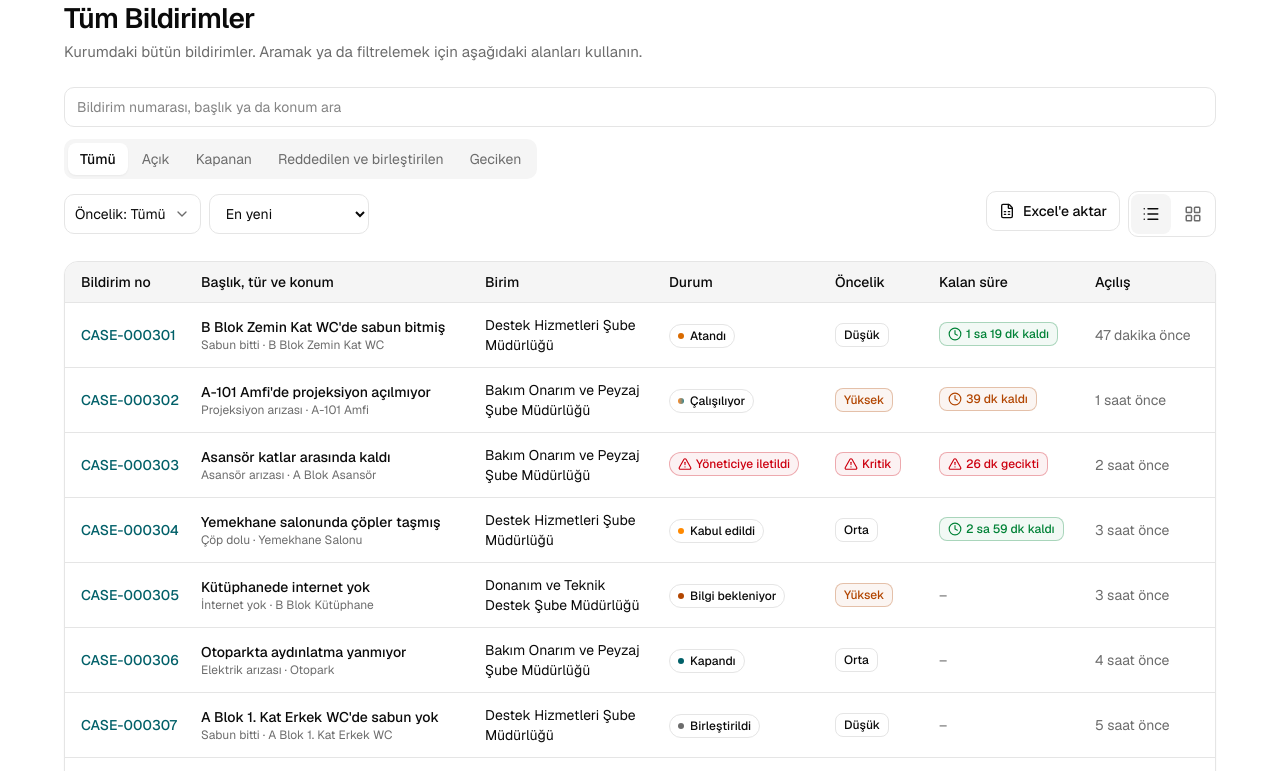
Test: CaseList › narrows the list by priority and by search text
Click the button "Öncelik: Tümü" at (132, 214), box [64,194,201,234]
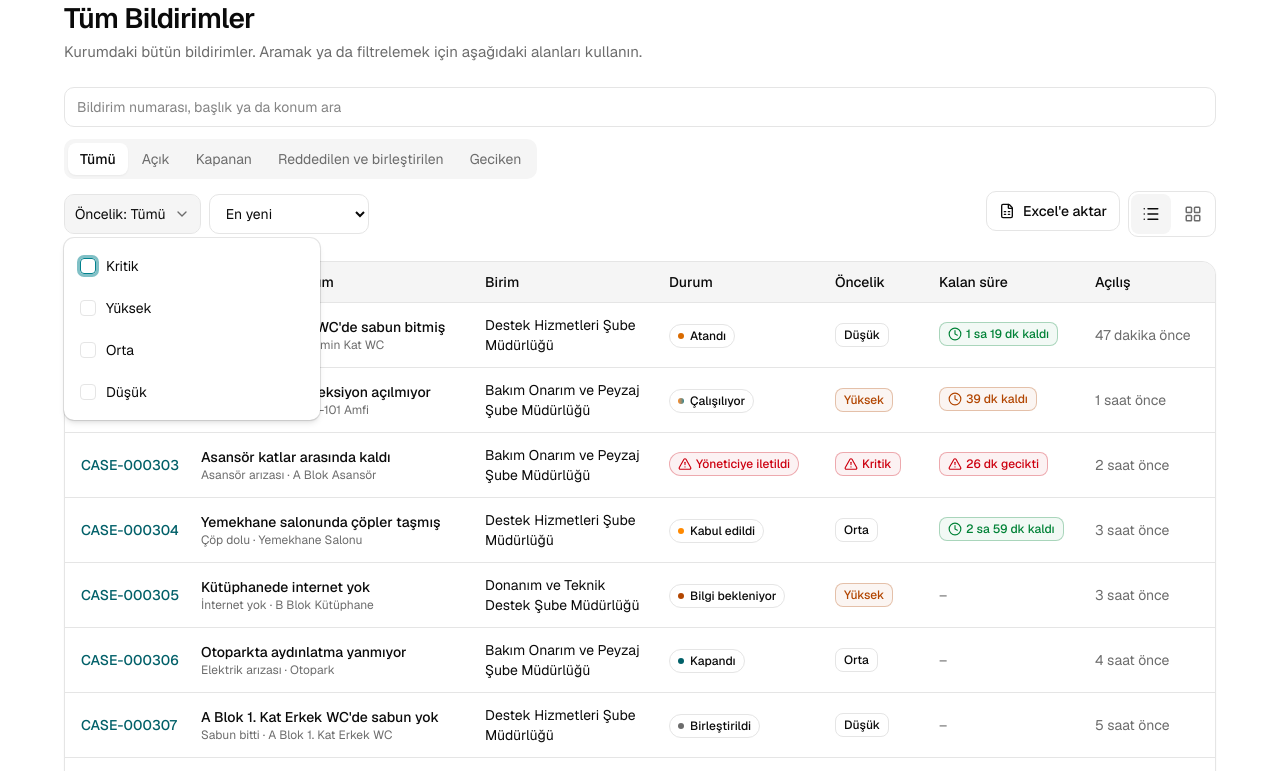
Click the 1st checkbox named "Kritik" at (88, 266), box [80,258,96,274]
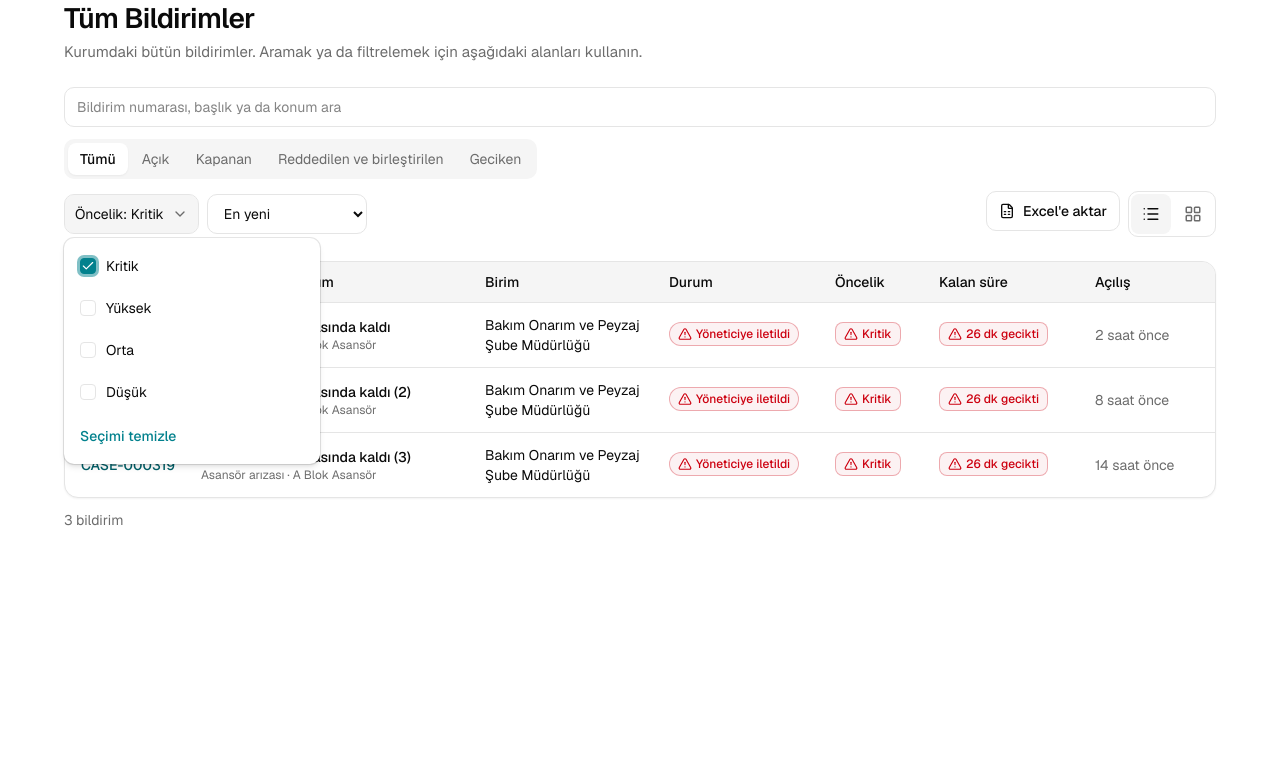
Check: the list item that starts with "CASE-000303" shows "Asansör katlar arasında kaldı", box [65,302,1215,367]
Check: the number of list items is 3, box [65,302,1215,367]; [65,367,1215,432]; [65,432,1215,497]
Click the button "Seçimi temizle" at (192, 436), box [72,416,312,456]
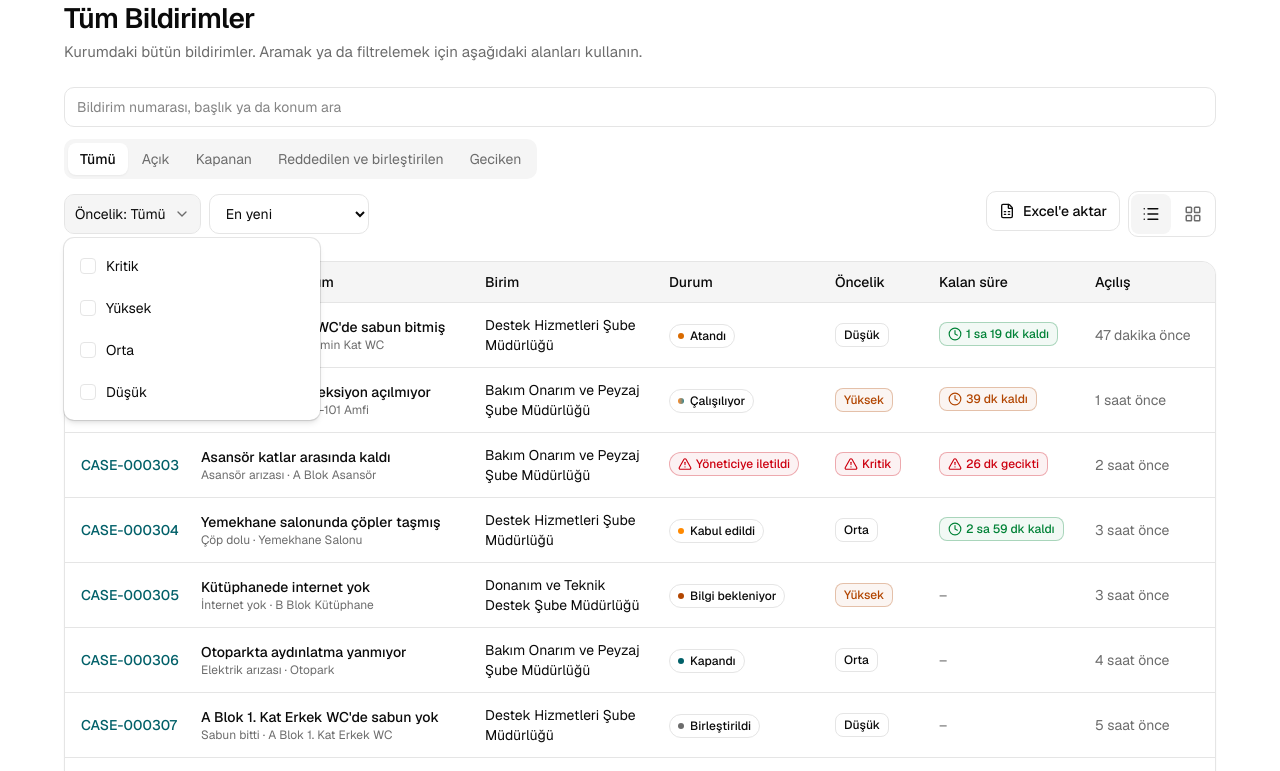
Press Escape
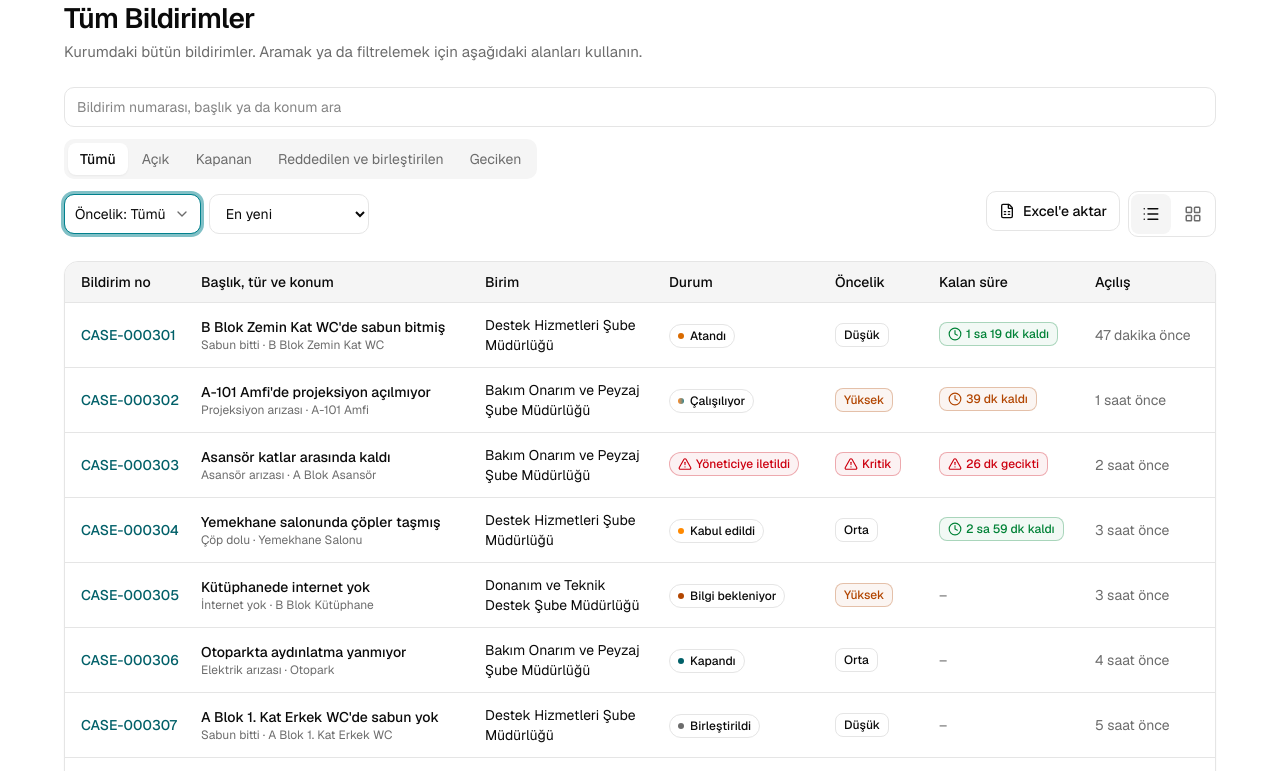
Type "kantin" into the search field named "Bildirim ara" at (640, 107), box [64,87,1216,127]
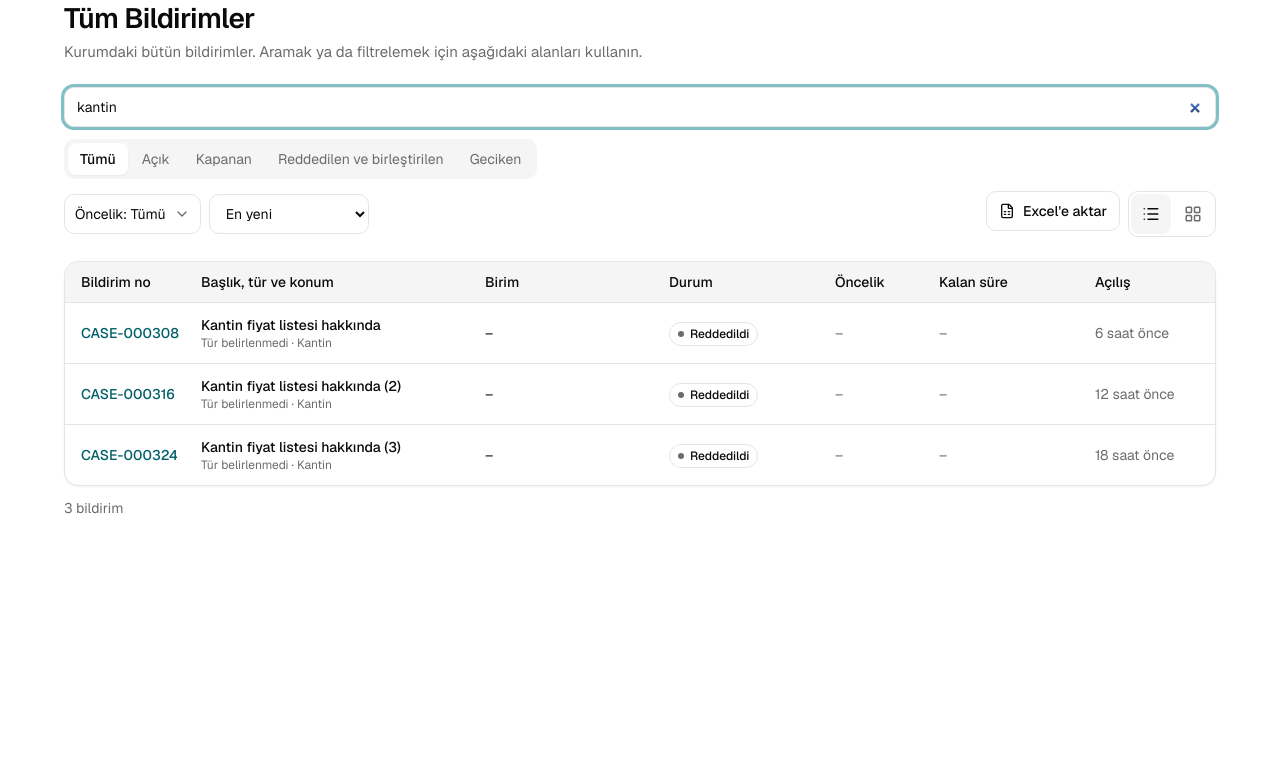
Check: the list item that starts with "CASE-000308" shows "Kantin fiyat listesi hakkında", box [65,302,1215,363]
Check: the list item that starts with "CASE-000316" shows "Kantin fiyat listesi hakkında", box [65,363,1215,424]
Check: the number of list items is 3, box [65,302,1215,363]; [65,363,1215,424]; [65,424,1215,485]
